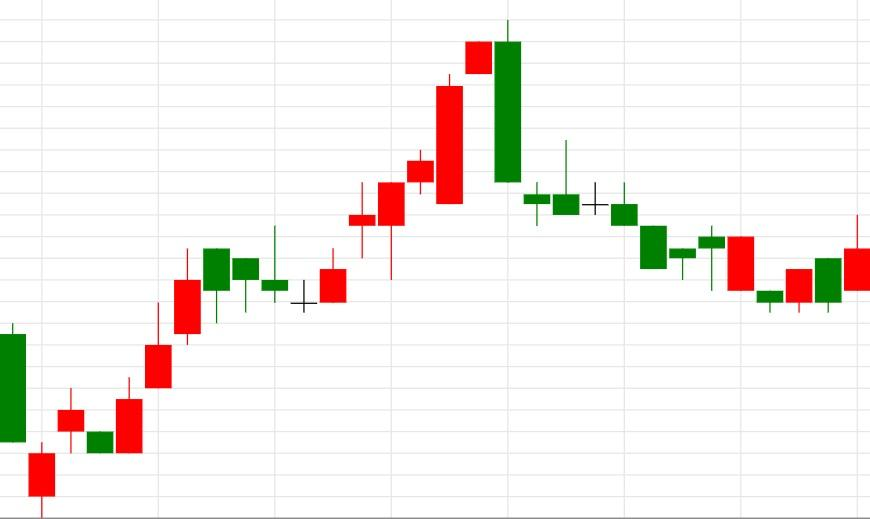bearish_engulfing_fall: (289, 20, 522, 313)
